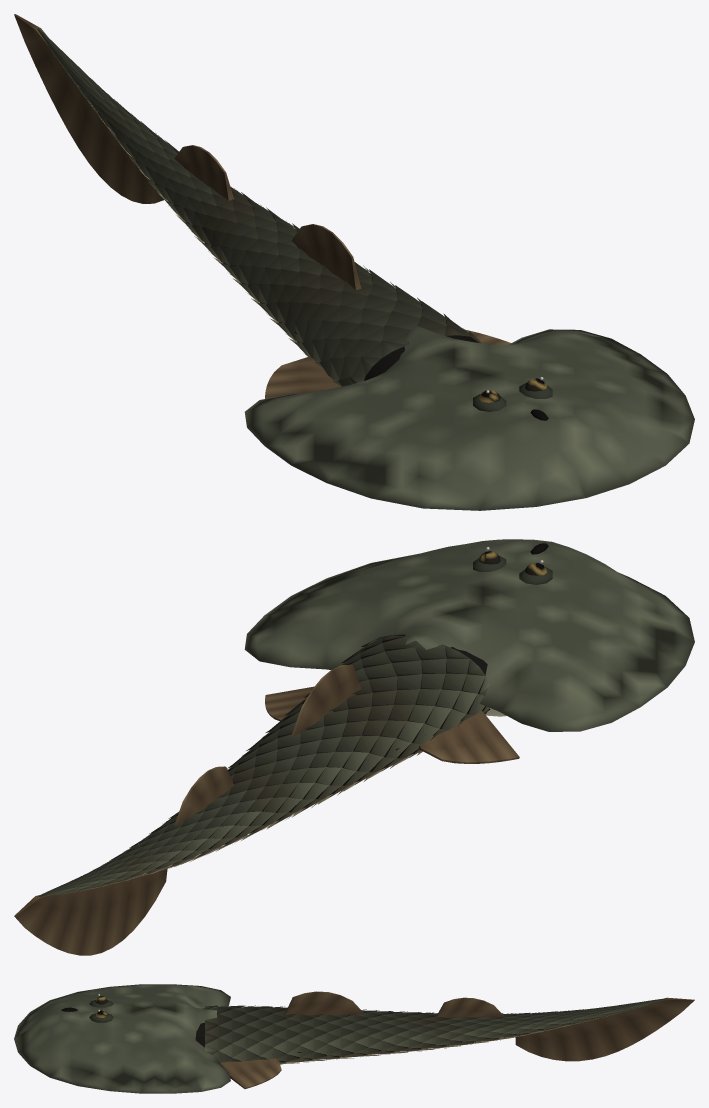
The model's file is AteleaspisTessellata.fbx.
3 views of the same model, one above another, from view 1: azimuth 30°, elevation 25°; view 2: azimuth 150°, elevation 25°; view 3: azimuth 270°, elevation 25° (orthographic). The views are drawn at different scales.
Parts seen in each view (by area): view 1: AteleaspisTessellata; view 2: AteleaspisTessellata; view 3: AteleaspisTessellata.
Boxes of the visible parts, x1=… form: AteleaspisTessellata: x1=14, y1=14, x2=694, y2=510; AteleaspisTessellata: x1=14, y1=539, x2=694, y2=955; AteleaspisTessellata: x1=14, y1=984, x2=694, y2=1093.
Size of the model in its own units: 0.65 by 0.211 by 1.71.
